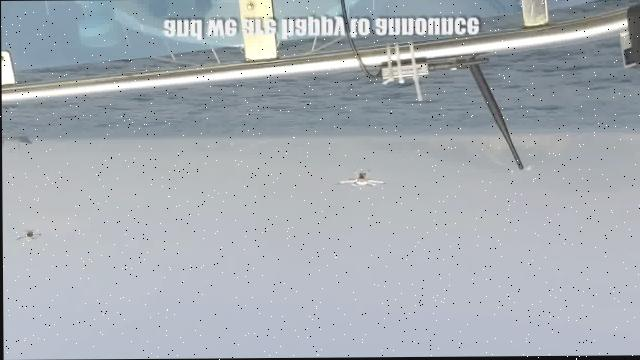drone: (331, 167, 387, 191), (10, 228, 40, 243)
